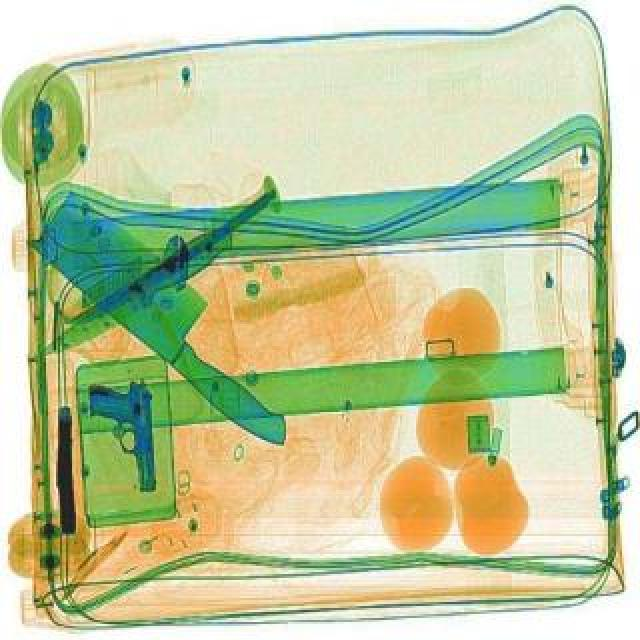gun: (86, 378, 154, 492), (56, 406, 76, 534)
knife: (26, 190, 326, 456), (38, 222, 246, 362), (122, 172, 296, 310)
